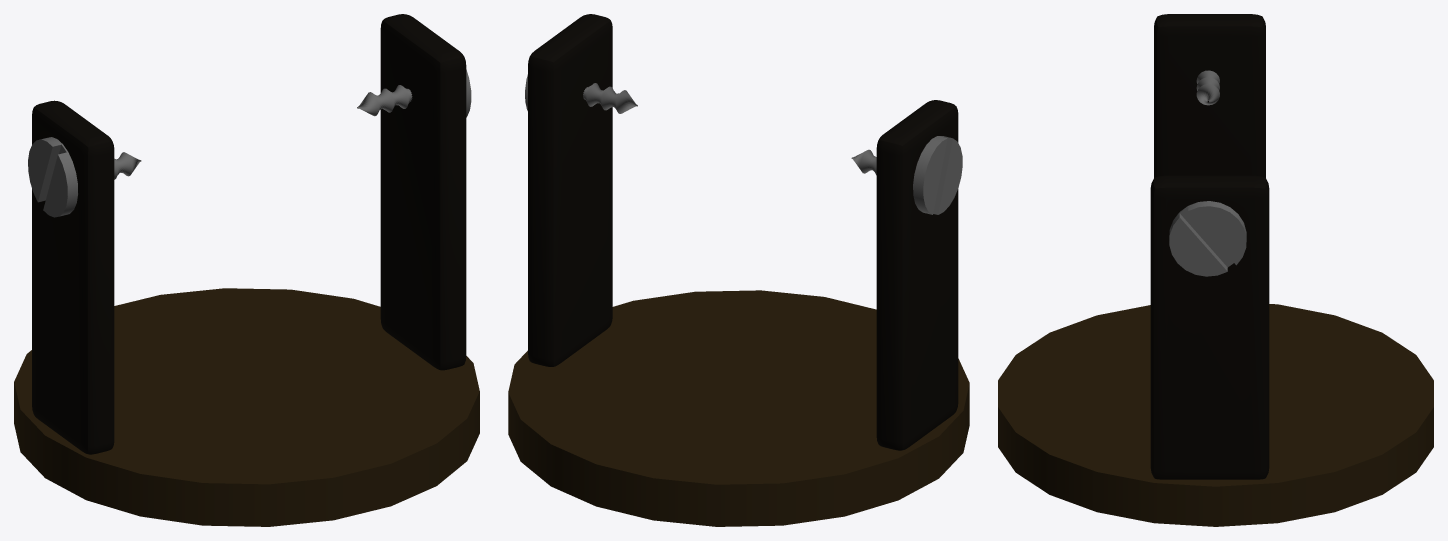
The model's file is Base Cannon.fbx.
3 views of the same model, side by side, from view 1: azimuth 30°, elevation 25°; view 2: azimuth 150°, elevation 25°; view 3: azimuth 270°, elevation 25° (orthographic). The views are drawn at different scales.
Parts seen in each view (by area): view 1: BaseCannon; view 2: BaseCannon; view 3: BaseCannon.
Boxes of the visible parts, <box> form: BaseCannon: <box>14,14,479,526</box>; BaseCannon: <box>508,14,969,526</box>; BaseCannon: <box>998,14,1433,526</box>.
Size of the model in its own units: 1.88 by 1.57 by 1.86.
